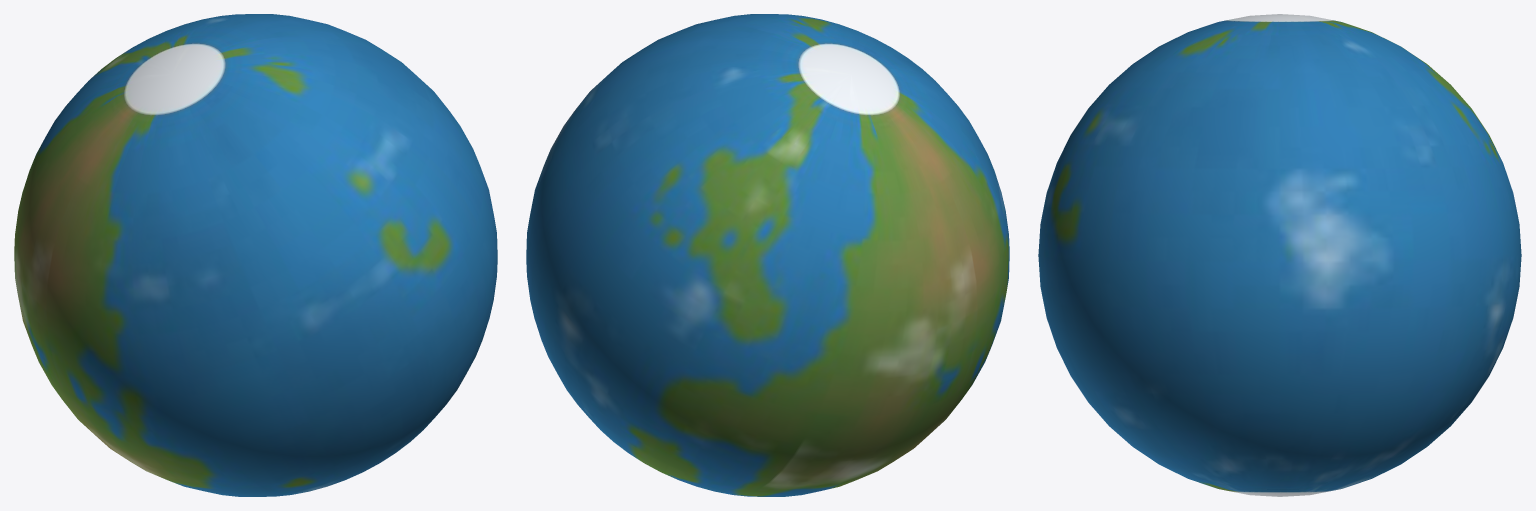
Rendered from bumi.glb.
3 views of the same model, side by side, from view 1: azimuth 30°, elevation 25°; view 2: azimuth 150°, elevation 25°; view 3: azimuth 270°, elevation 25° (orthographic).
Parts seen in each view (by area): view 1: Bumi; view 2: Bumi; view 3: Bumi.
Boxes of the visible parts, bbox=[...] form: Bumi: bbox=[14, 14, 497, 496]; Bumi: bbox=[526, 14, 1009, 496]; Bumi: bbox=[1038, 14, 1521, 496].
Size of the model in its own units: 0.3 by 0.3 by 0.3.
1 material, 1 textured.
